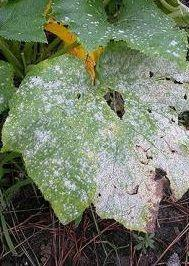Squash Powdery mildew leaf: (11, 36, 189, 240)
